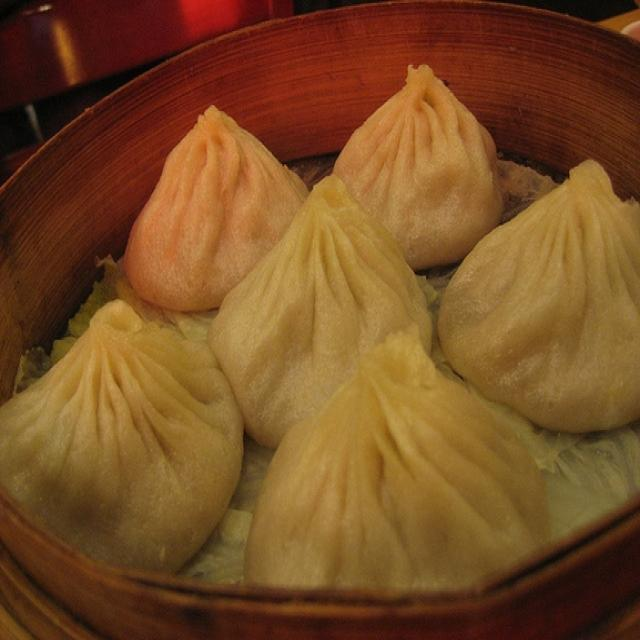带馅早点: (30, 31, 608, 602)
